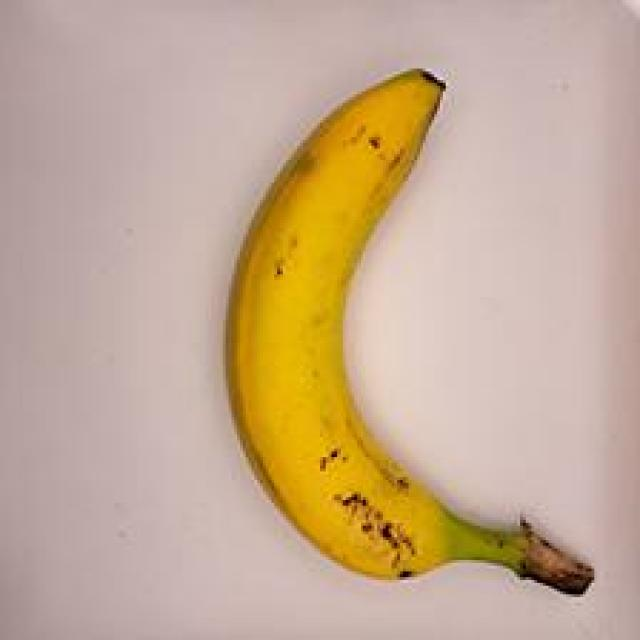ripe: (205, 35, 622, 634)
